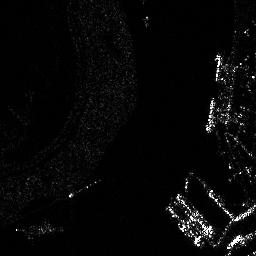ship: (68, 177, 104, 197), (205, 97, 217, 135), (212, 54, 226, 83)
